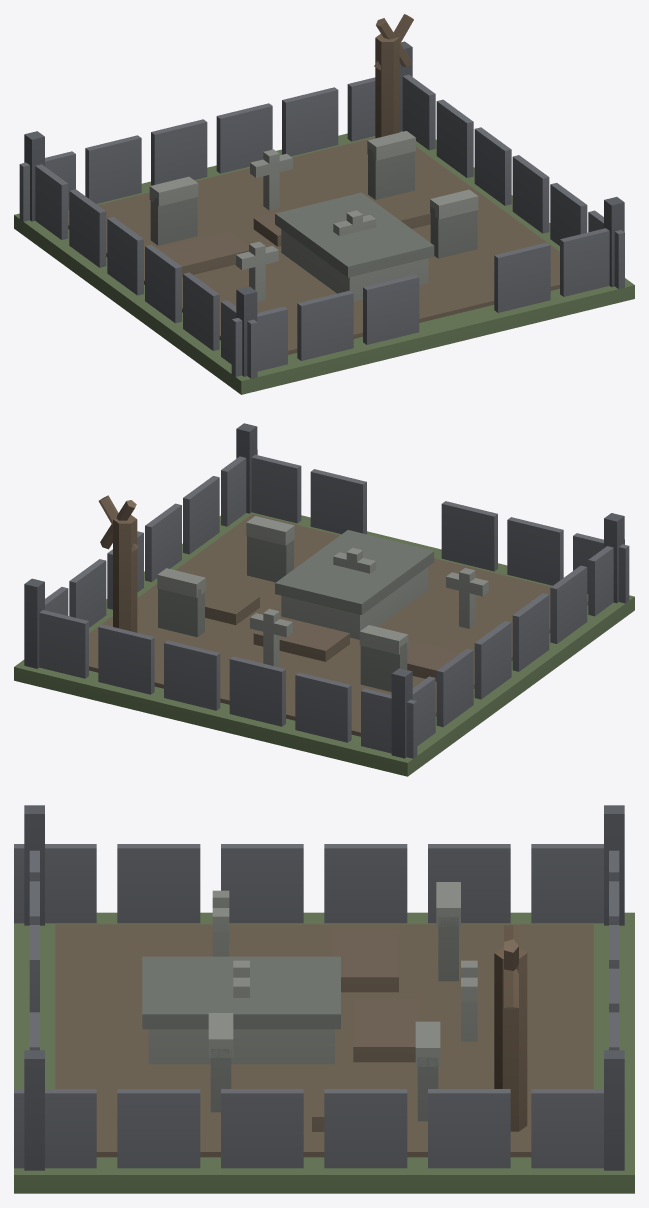
File: graveyard.glb
The picture shows the model from 3 angles, top to bottom: view 1: azimuth 30°, elevation 25°; view 2: azimuth 150°, elevation 25°; view 3: azimuth 270°, elevation 25°; orthographic projection. The views are drawn at different scales.
Visible parts, largest first — view 1: graveyard; view 2: graveyard; view 3: graveyard.
Part boxes in pixels (x1,y1,x2,y2): graveyard: (14,14,634,394); graveyard: (14,423,634,776); graveyard: (14,805,634,1193).
Size of the model in its own units: 3 by 1.19 by 3.
